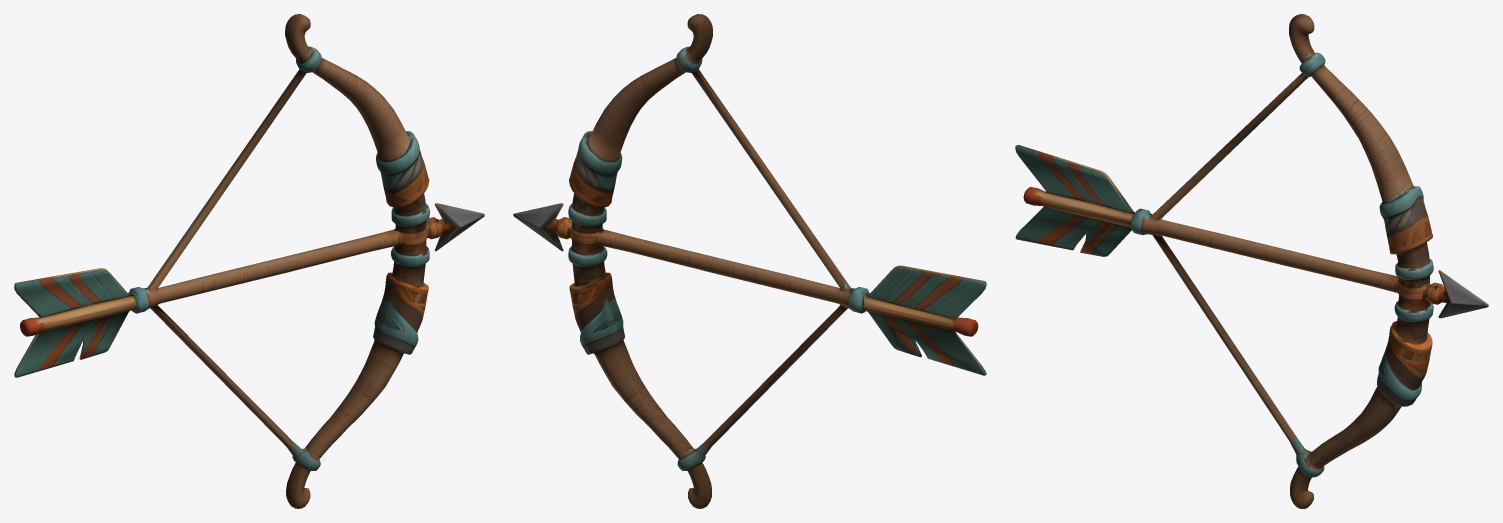
Rendered from Weapons__primitive_arrow_e6a0532e_v1.cluster.glb.
3 renders of one model, left to right at view 1: azimuth 30°, elevation 25°; view 2: azimuth 150°, elevation 25°; view 3: azimuth 330°, elevation 25°, orthographic.
Parts seen in each view (by area): view 1: mesh_input; view 2: mesh_input; view 3: mesh_input.
Boxes of the visible parts, bbox=[...] form: mesh_input: bbox=[14, 14, 484, 508]; mesh_input: bbox=[513, 14, 986, 508]; mesh_input: bbox=[1015, 14, 1488, 508].
Bounding box in the file's own units: 1.9 × 1.9 × 0.1484.
1 material, 1 textured.
